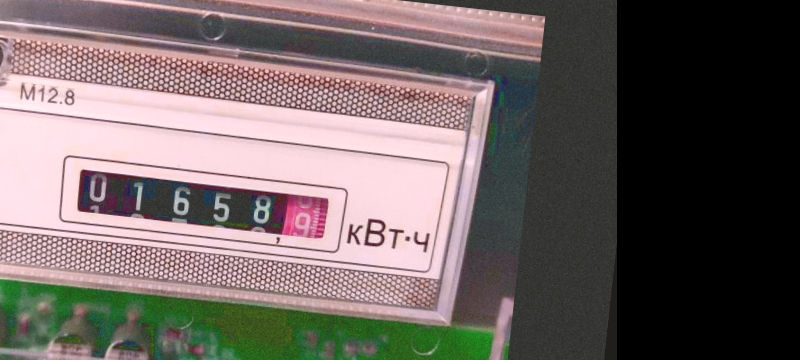0: (85, 170, 108, 202)
1: (127, 178, 148, 212)
5: (209, 189, 233, 222)
6: (169, 182, 193, 217)
8: (250, 191, 273, 225)
9: (288, 209, 312, 239)
screen: (46, 145, 353, 260)
